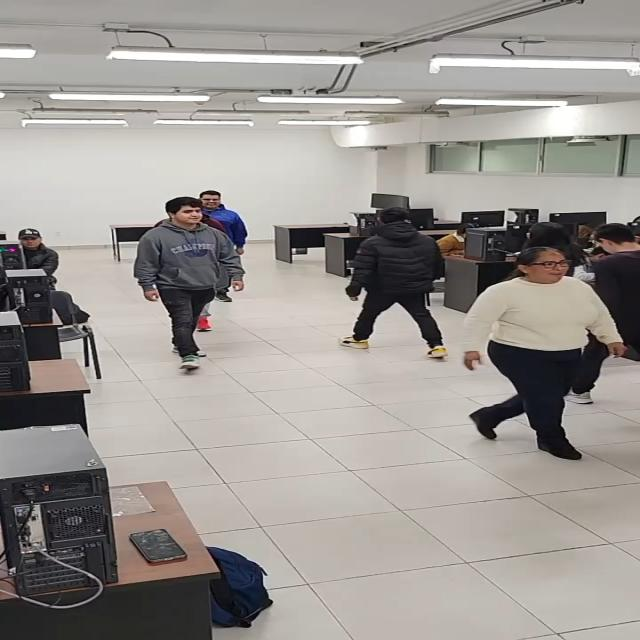Persona: (460, 244, 620, 461), (329, 203, 453, 363), (134, 195, 232, 378)
